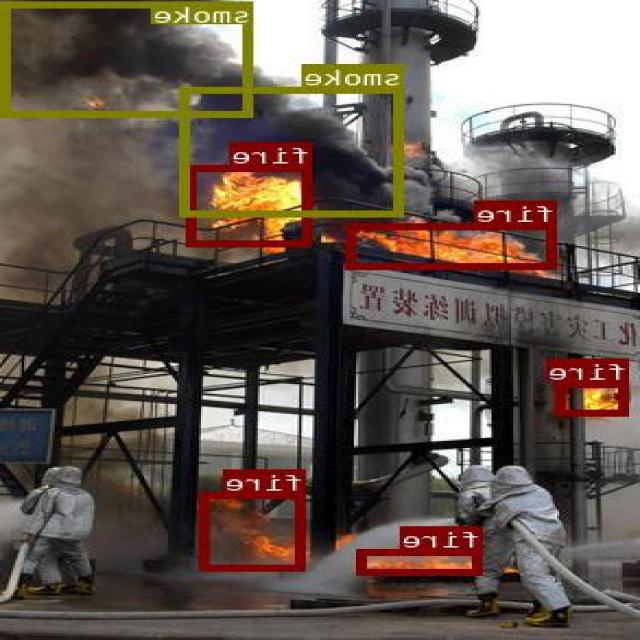fire: (189, 164, 313, 245), (349, 223, 558, 268), (202, 491, 307, 570), (359, 549, 484, 574), (558, 380, 630, 414)
smoke: (4, 0, 256, 115), (184, 86, 406, 216)
